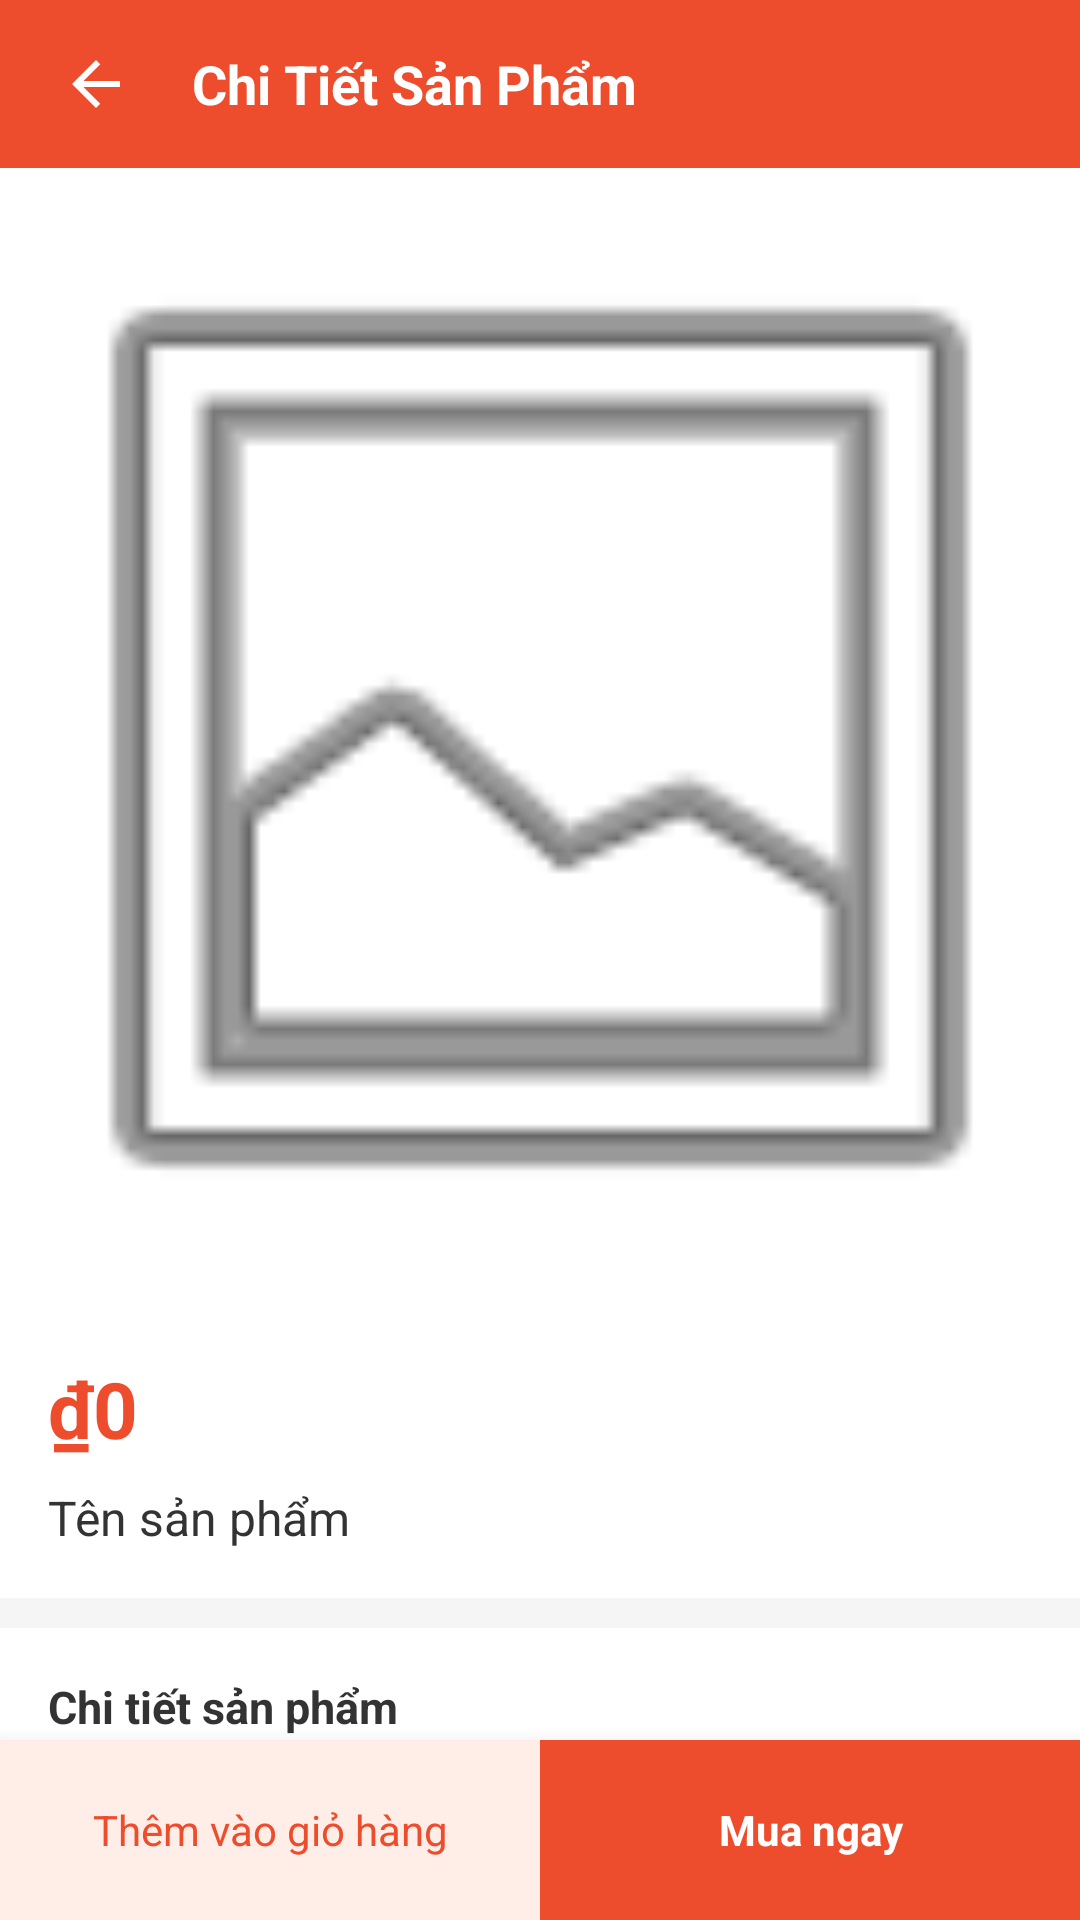

Named icons in this screenshot (1080×1920) and their centers, [x,y]:
back: [96,84]
